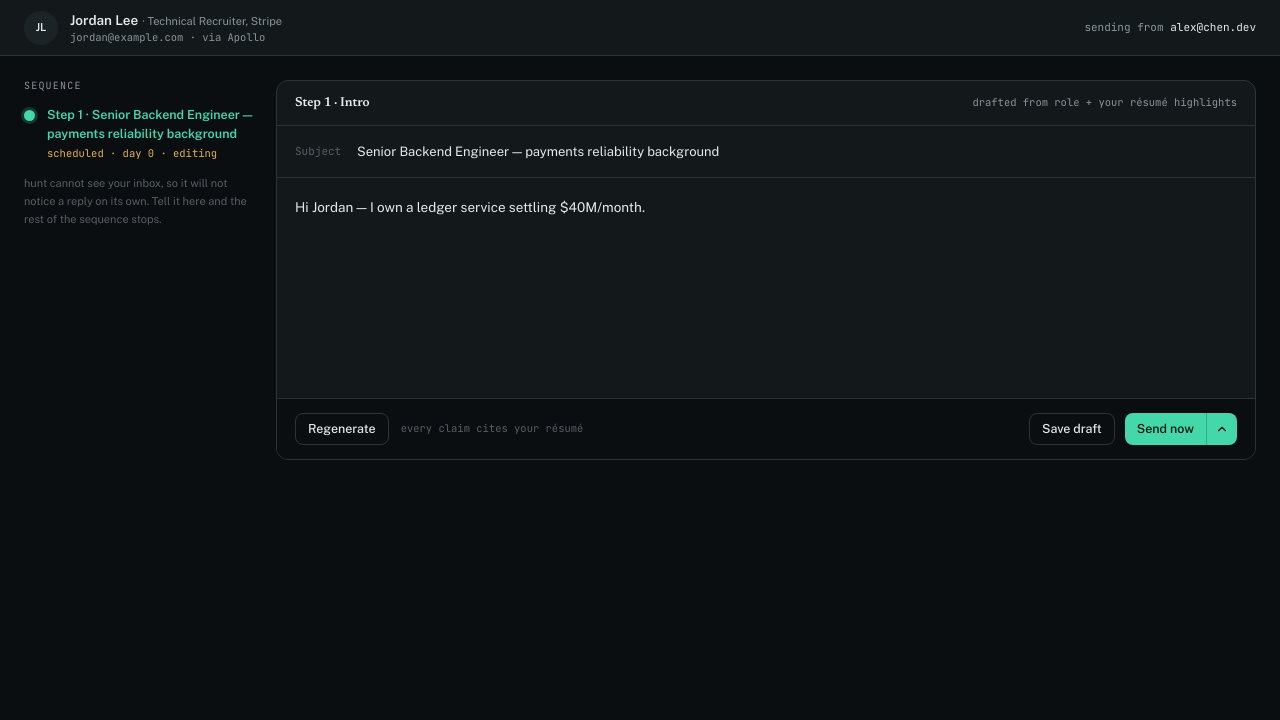
Test: composer › shows a failed send in place instead of losing the message
What coordinates should you click on to do the following:
click the button with test id "send-now"
I would click on:
 (1165, 429)
Its box is 1125,413 -> 1206,445.
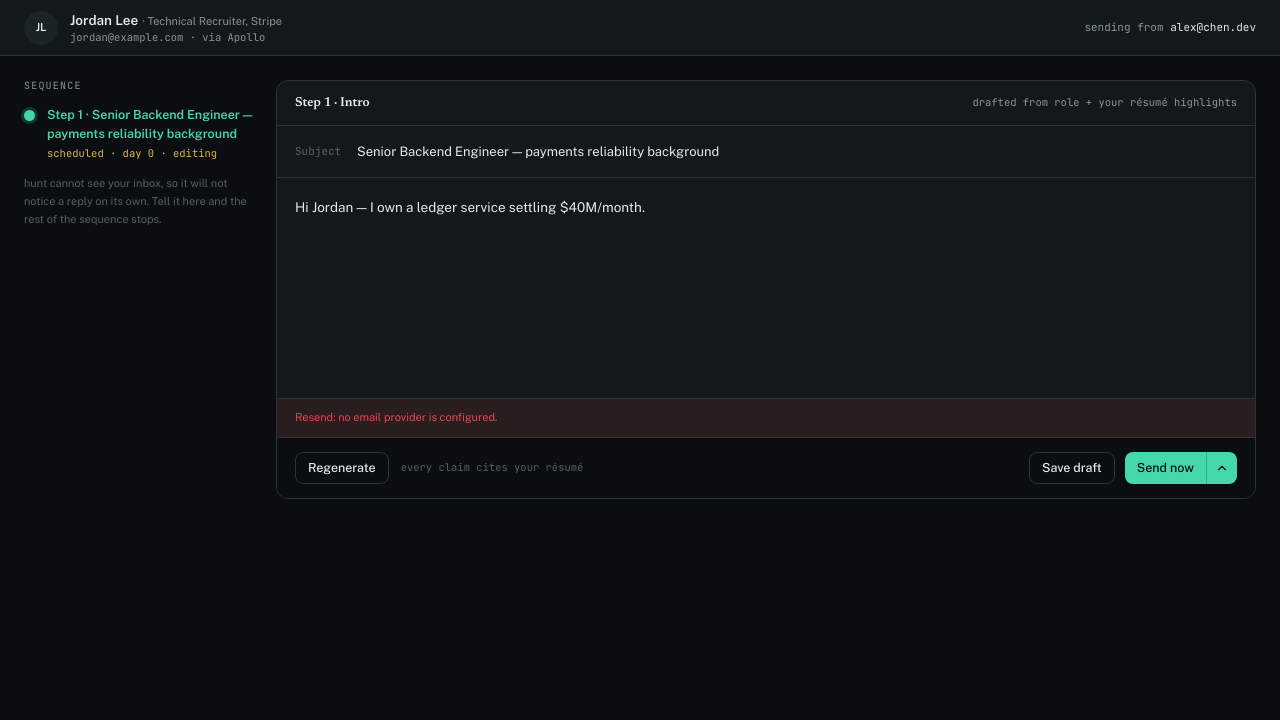
Check: the text with test id "composer-error" shows "no email provider", box 295,411 -> 498,423
